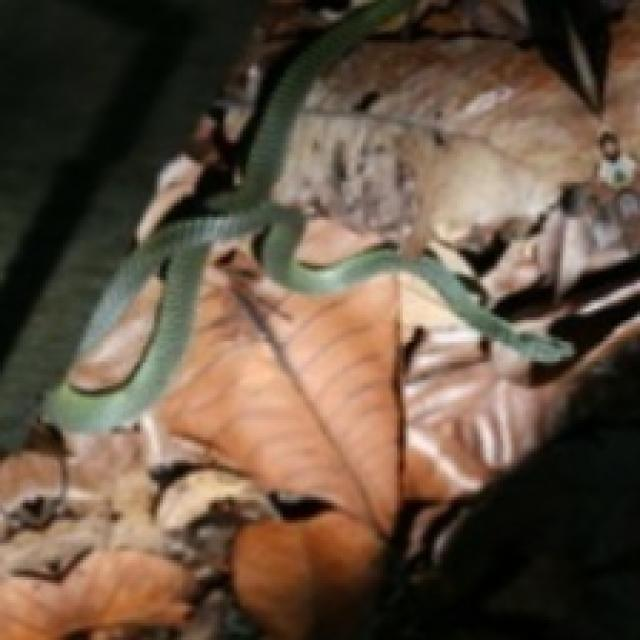paradise tree snake: (43, 0, 623, 429), (291, 111, 429, 269)
